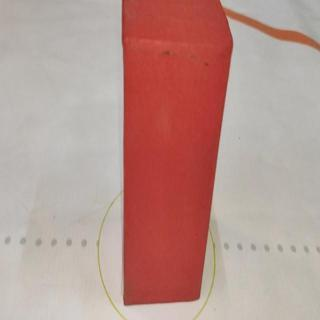redbox: (121, 1, 234, 308)
